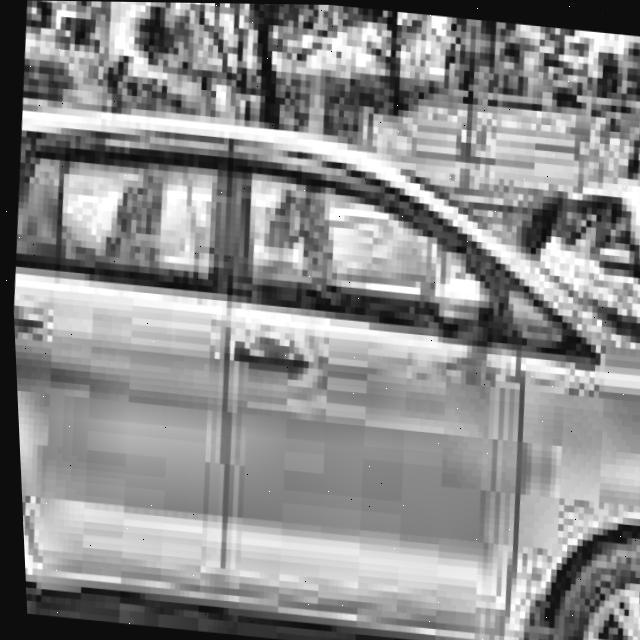light_vehicle: (3, 97, 640, 640)
